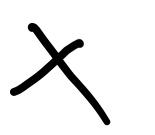mult: (10, 23, 111, 125)
